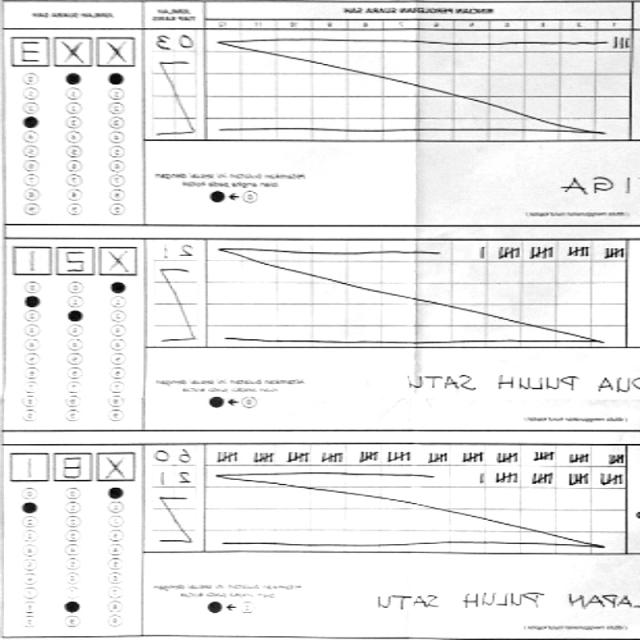Suara: (4, 445, 146, 482), (15, 26, 138, 64), (10, 244, 142, 276)
